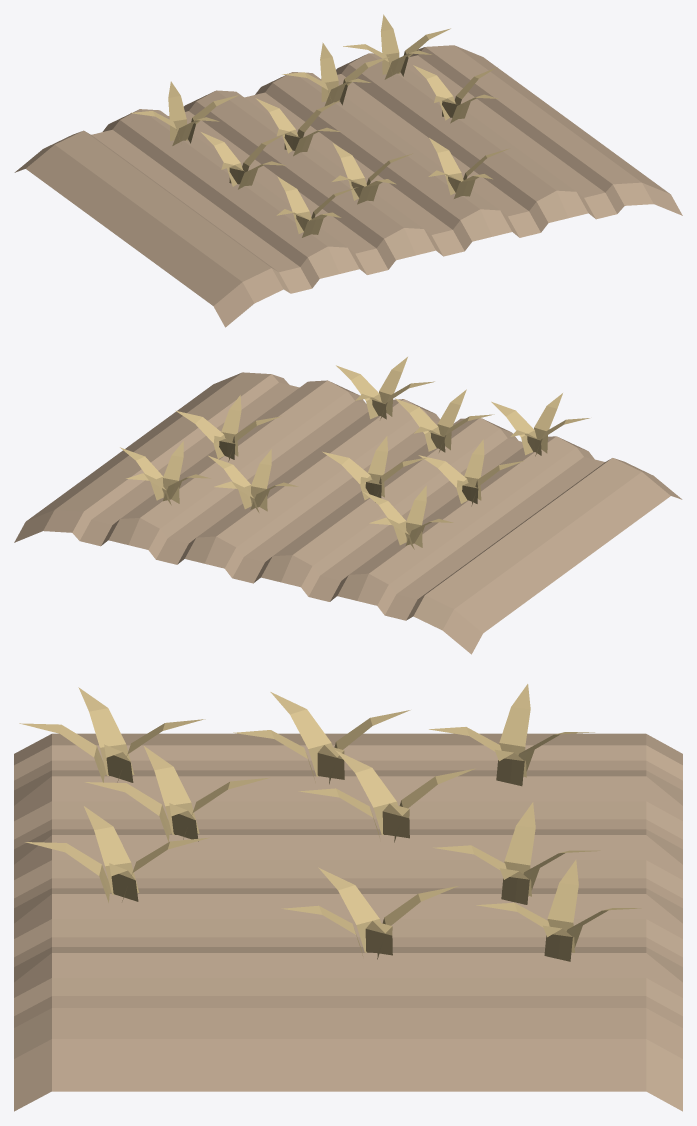
File: ER_Asset_Farm01.fbx
3 renders of one model, top to bottom at view 1: azimuth 30°, elevation 25°; view 2: azimuth 150°, elevation 25°; view 3: azimuth 270°, elevation 25°, orthographic. The views are drawn at different scales.
Parts seen in each view (by area): view 1: polySurface4342; view 2: polySurface4342; view 3: polySurface4342.
Boxes of the visible parts, x1,y1,x2,y2 form: polySurface4342: (14,14,682,327); polySurface4342: (14,357,682,654); polySurface4342: (14,684,682,1111).
Size of the model in its own units: 5 by 0.8352 by 4.
